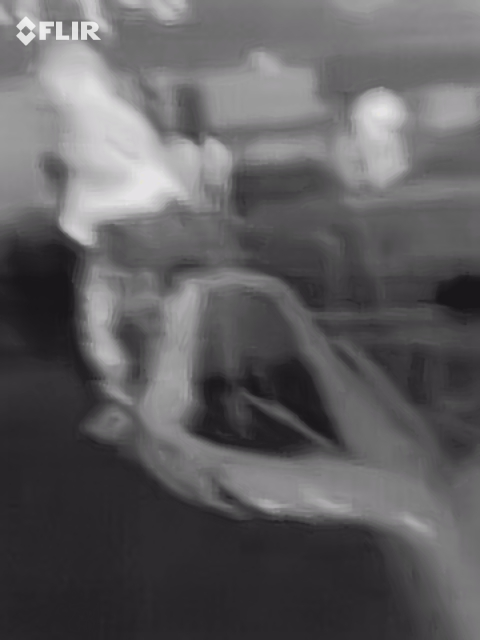head: (38, 41, 105, 106)
